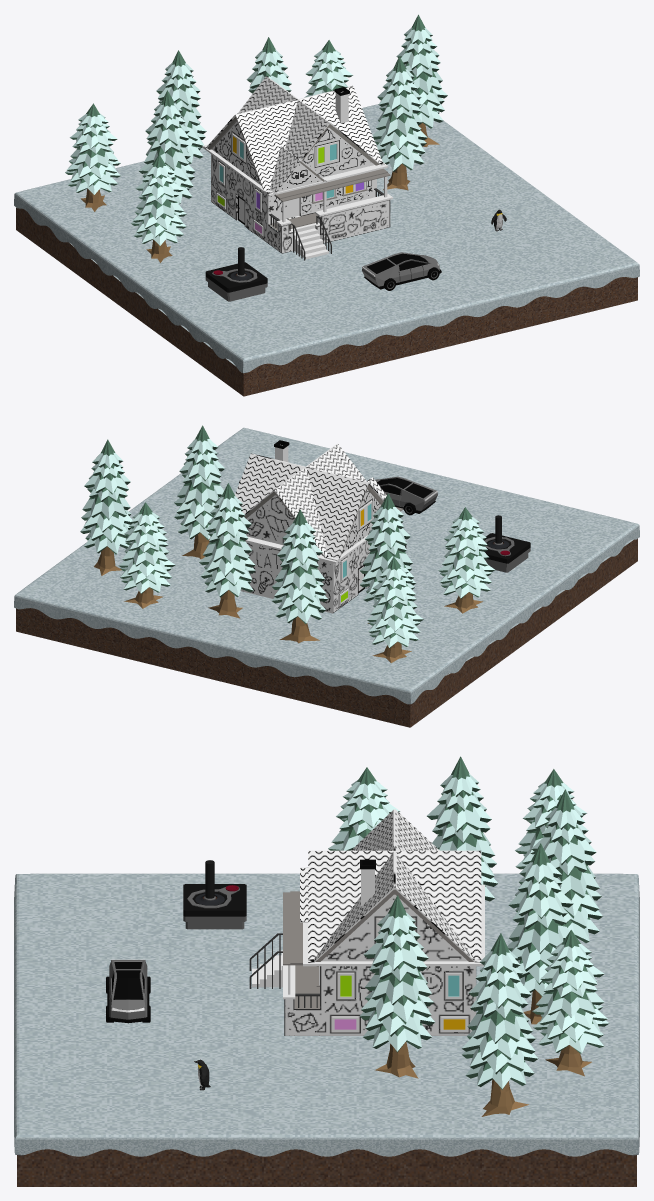
3 views of the same model, one above another, from view 1: azimuth 30°, elevation 25°; view 2: azimuth 150°, elevation 25°; view 3: azimuth 270°, elevation 25° (orthographic). The views are drawn at different scales.
Parts seen in each view (by area): view 1: Cube.003, Cube.879, VEHICLES_CYBERTRUCK, OBJRANDOM_JOYSTICK; view 2: Cube.003, Cube.879, OBJRANDOM_JOYSTICK, VEHICLES_CYBERTRUCK; view 3: Cube.003, Cube.879, OBJRANDOM_JOYSTICK, VEHICLES_CYBERTRUCK.
Boxes of the visible parts, box(x1,y1,x2,y2) form: Cube.003: box(14, 14, 639, 396); Cube.879: box(202, 76, 392, 260); VEHICLES_CYBERTRUCK: box(362, 252, 441, 290); OBJRANDOM_JOYSTICK: box(205, 247, 267, 301); Cube.003: box(14, 425, 639, 727); Cube.879: box(235, 440, 406, 613); OBJRANDOM_JOYSTICK: box(484, 515, 530, 572); VEHICLES_CYBERTRUCK: box(375, 476, 437, 515); Cube.003: box(14, 756, 639, 1186); Cube.879: box(249, 809, 484, 1035); OBJRANDOM_JOYSTICK: box(183, 860, 246, 929); VEHICLES_CYBERTRUCK: box(106, 959, 150, 1023).
Size of the model in its own units: 4040 by 1642 by 4040.
35 materials, 11 textured.
